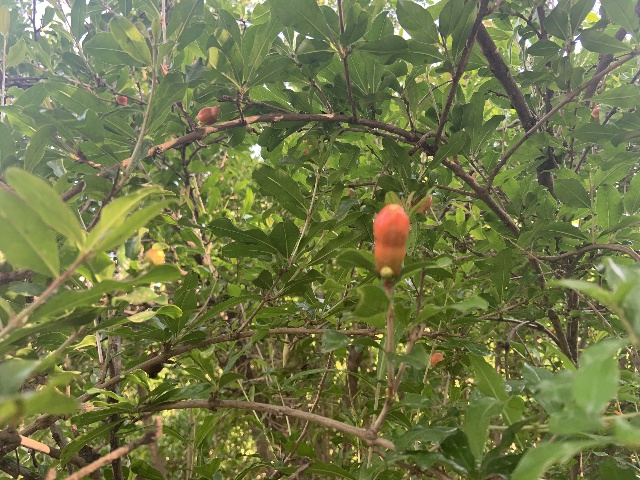bud: (372, 203, 410, 274), (197, 105, 220, 125), (429, 353, 444, 366), (592, 103, 601, 123)
